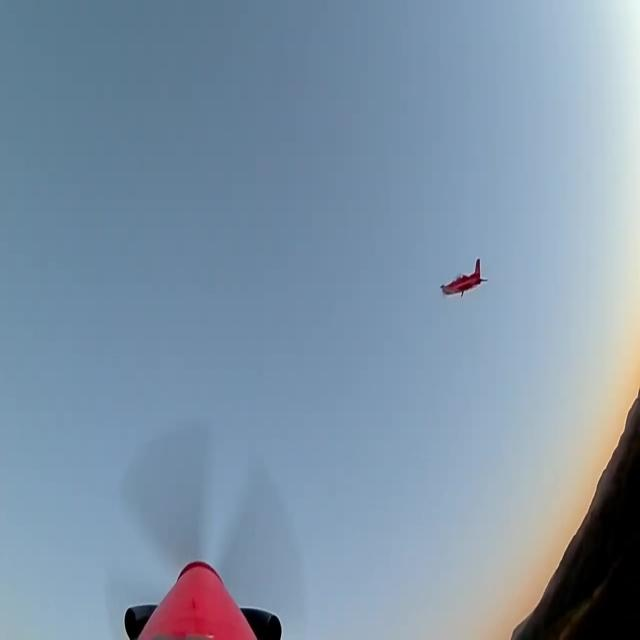iha: (438, 256, 489, 300)
